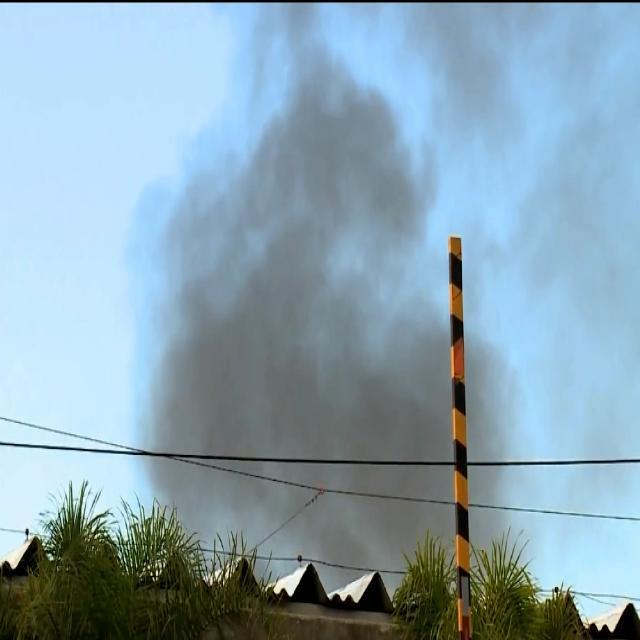Smoke: (158, 31, 490, 559)
